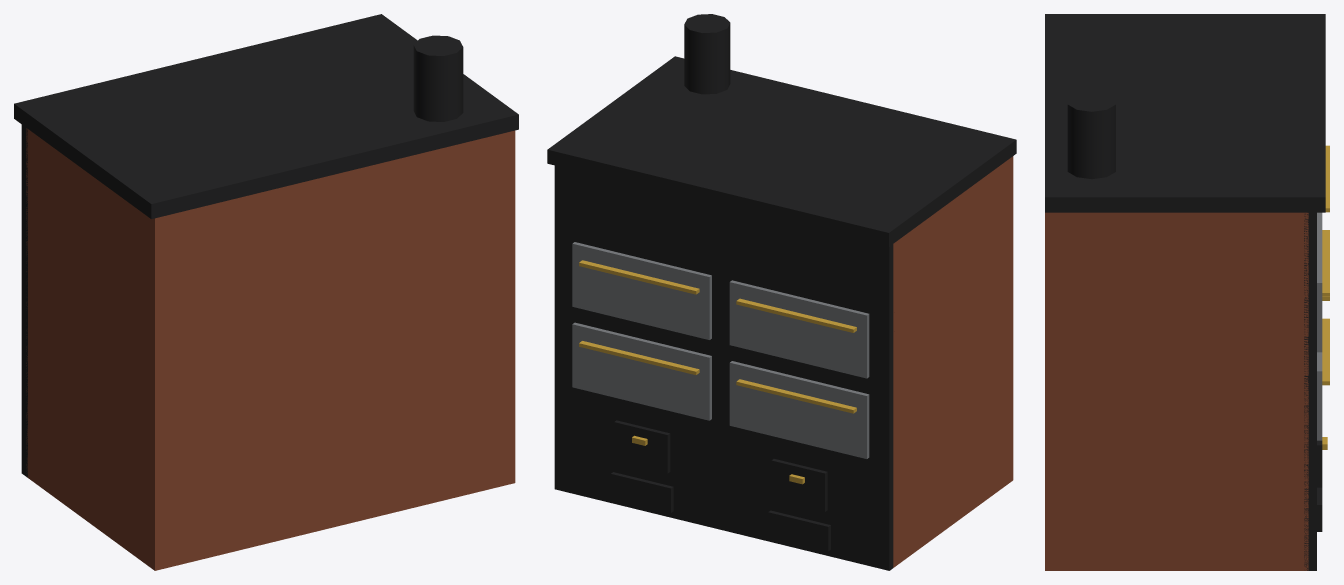
File: parametric-oven-1st.glb
The picture shows the model from 3 angles, left to right: view 1: azimuth 30°, elevation 25°; view 2: azimuth 150°, elevation 25°; view 3: azimuth 270°, elevation 25°; orthographic projection. The views are drawn at different scales.
Parts seen in each view (by area): view 1: parametric-oven-1st; view 2: parametric-oven-1st; view 3: parametric-oven-1st.
Boxes of the visible parts, <box> form: parametric-oven-1st: <box>14,14,518,570</box>; parametric-oven-1st: <box>547,14,1016,570</box>; parametric-oven-1st: <box>1045,14,1329,570</box>.
Size of the model in its own units: 2.04 by 2.3 by 1.34.
